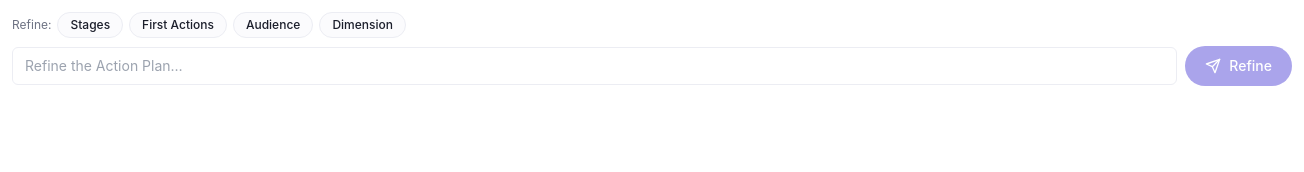
Test: ChatRefinementInput — 4-axis chips (G3) › clicking Audience chip pre-fills with 'Narrow the audience to '
Click the button "Audience": (273, 25) [233,12,313,38]
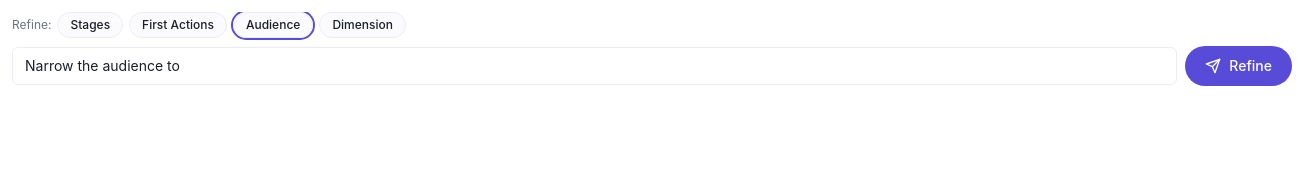
Expected: the field named "Refine the Action Plan" holds "Narrow the audience to ", [12,47,1177,85]
